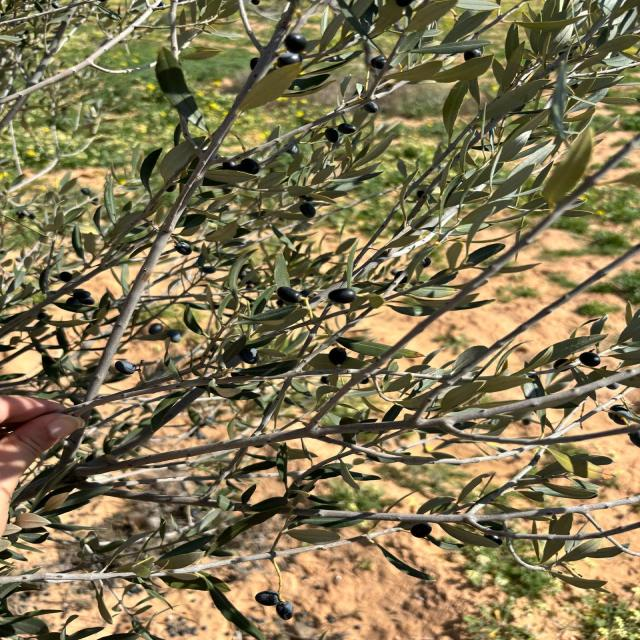Healthy: (155, 48, 209, 134), (431, 54, 494, 82), (489, 164, 535, 200), (437, 522, 497, 547), (255, 590, 294, 620), (286, 529, 340, 545), (284, 33, 307, 55), (276, 286, 304, 304), (328, 287, 356, 304), (329, 346, 349, 366), (277, 52, 301, 68), (114, 360, 138, 375), (579, 352, 601, 367), (409, 523, 431, 538), (299, 202, 316, 218), (176, 242, 192, 256), (325, 127, 339, 143), (337, 124, 357, 134)
